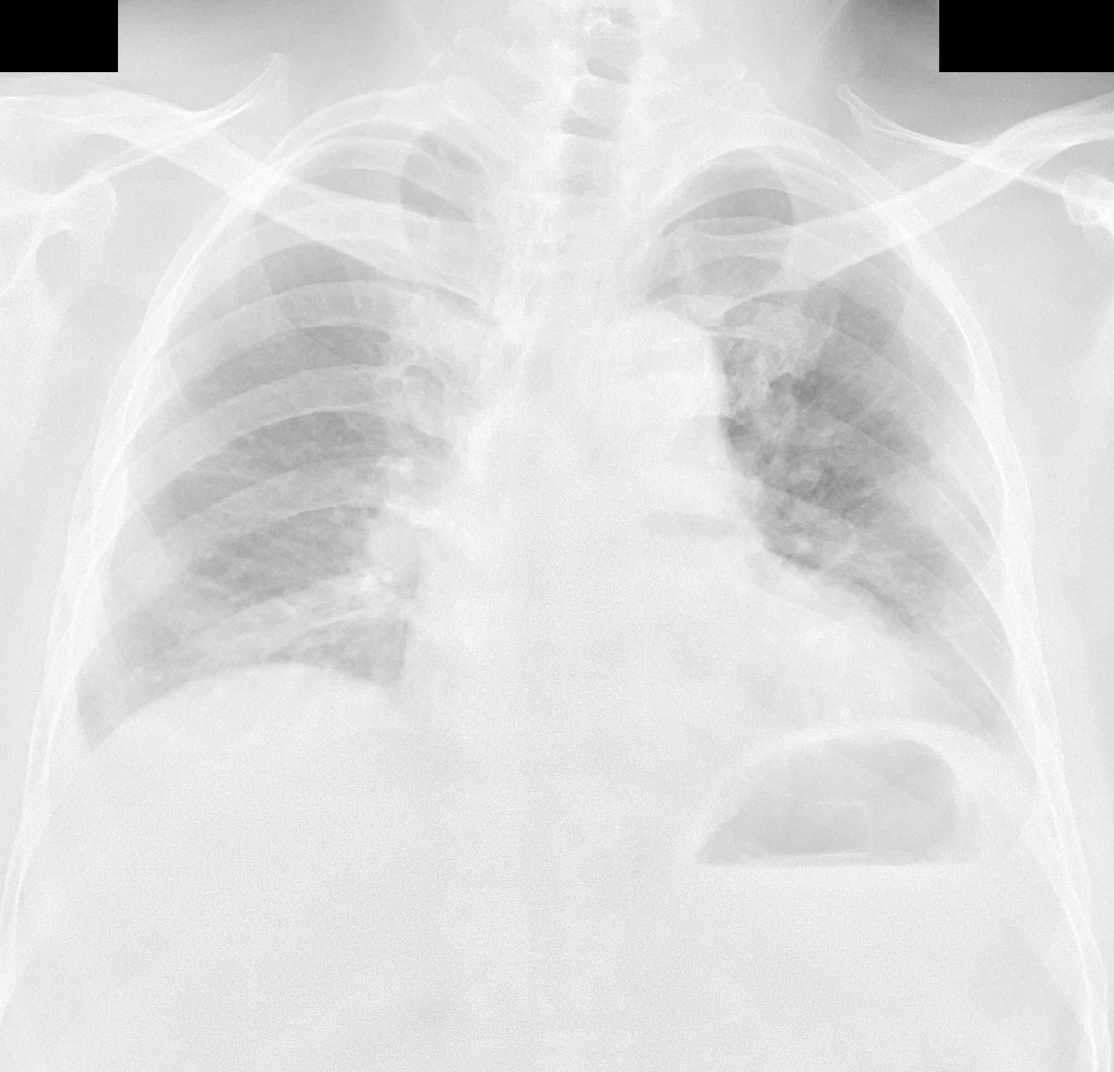Aortic enlargement: (586, 303, 723, 457)
Cardiomegaly: (385, 625, 978, 725)
Pulmonary fibrosis: (170, 579, 380, 660)
